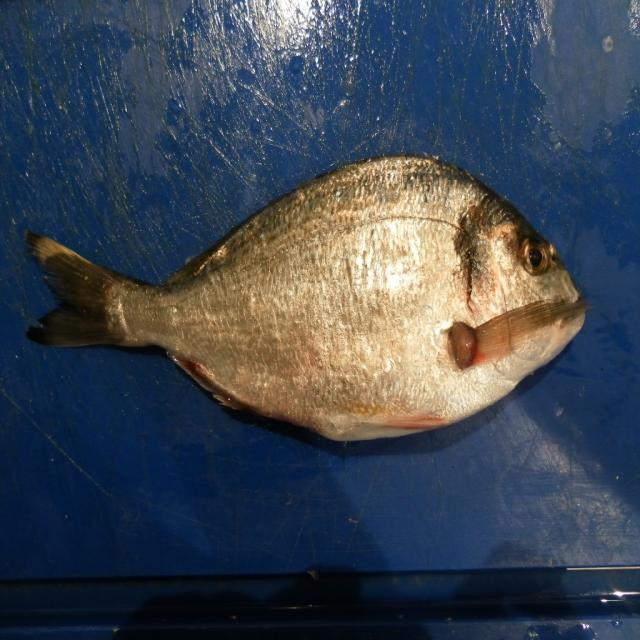Gilt-Head-Bream-c-ipura-: (24, 156, 589, 447)
